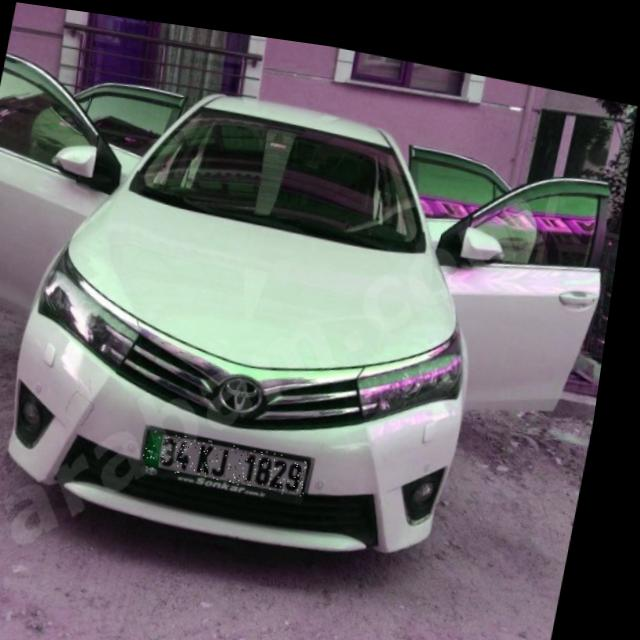license_plate: (152, 422, 324, 488)
